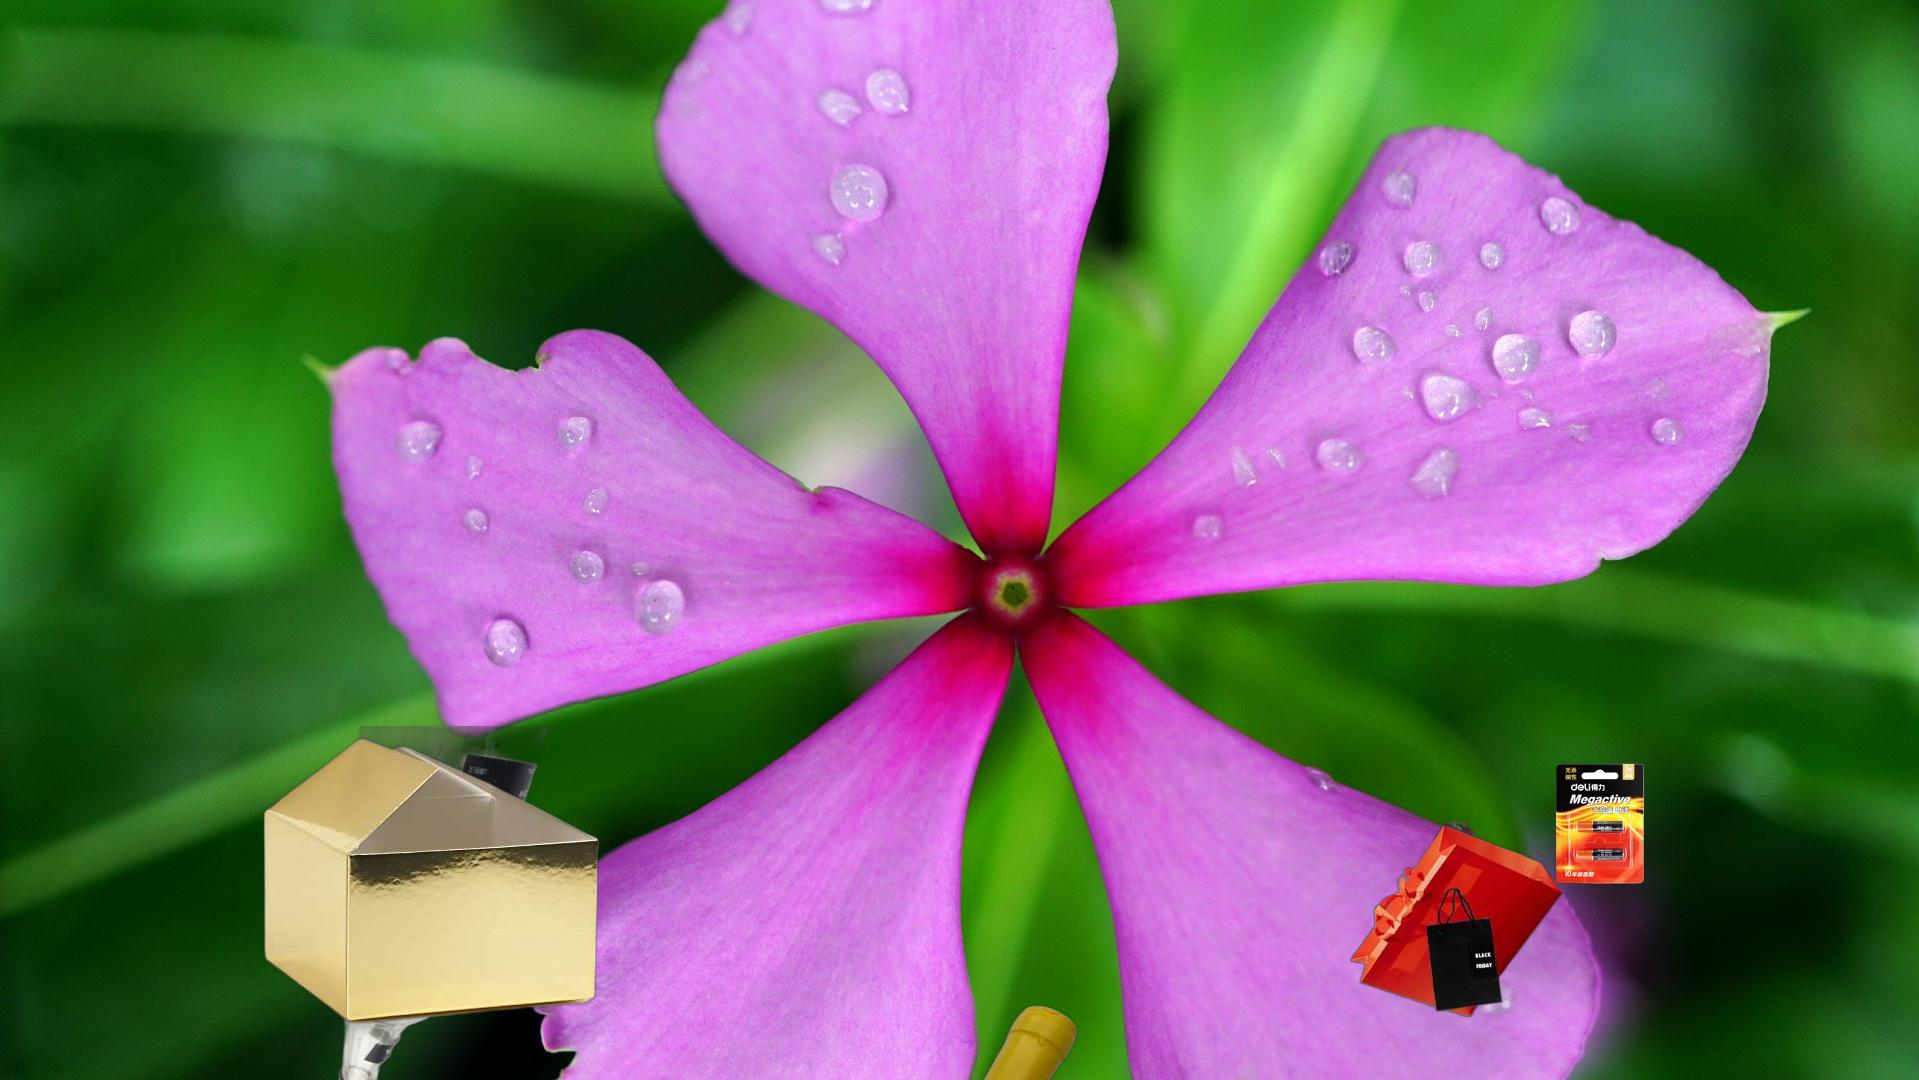battery: (1553, 761, 1647, 887)
glass: (79, 727, 590, 1080), (757, 1002, 1082, 1080)
paper-bag: (1348, 822, 1564, 1019)
trashbox-cardboard: (260, 735, 604, 1027)
